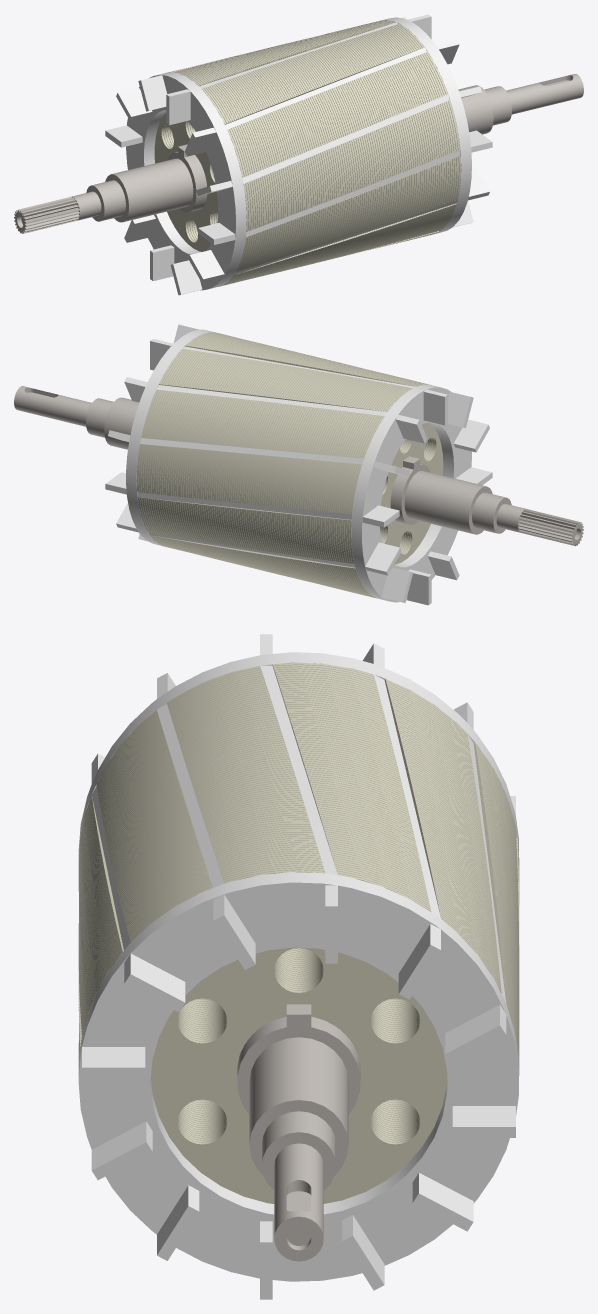
The model's file is ac_induction_motor.glb.
The picture shows the model from 3 angles, top to bottom: view 1: azimuth 30°, elevation 25°; view 2: azimuth 150°, elevation 25°; view 3: azimuth 270°, elevation 25°; orthographic projection. The views are drawn at different scales.
Visible parts, largest first — view 1: light grey low gloss plastic_5, white low gloss plastic_4, yellow soft touch plastic_3; view 2: light grey low gloss plastic_5, white low gloss plastic_4, yellow soft touch plastic_3; view 3: light grey low gloss plastic_5, white low gloss plastic_4, yellow soft touch plastic_3.
Boxes of the visible parts, left/top/right/bottom form: light grey low gloss plastic_5: left=154, top=20, right=461, bottom=286; white low gloss plastic_4: left=105, top=14, right=492, bottom=295; yellow soft touch plastic_3: left=14, top=74, right=583, bottom=233; light grey low gloss plastic_5: left=136, top=332, right=443, bottom=598; white low gloss plastic_4: left=105, top=324, right=492, bottom=605; yellow soft touch plastic_3: left=14, top=386, right=583, bottom=546; light grey low gloss plastic_5: left=78, top=662, right=519, bottom=1203; white low gloss plastic_4: left=78, top=634, right=518, bottom=1299; yellow soft touch plastic_3: left=237, top=1004, right=360, bottom=1261.
Bounding box in the file's own units: 0.52 × 0.178 × 0.178.
